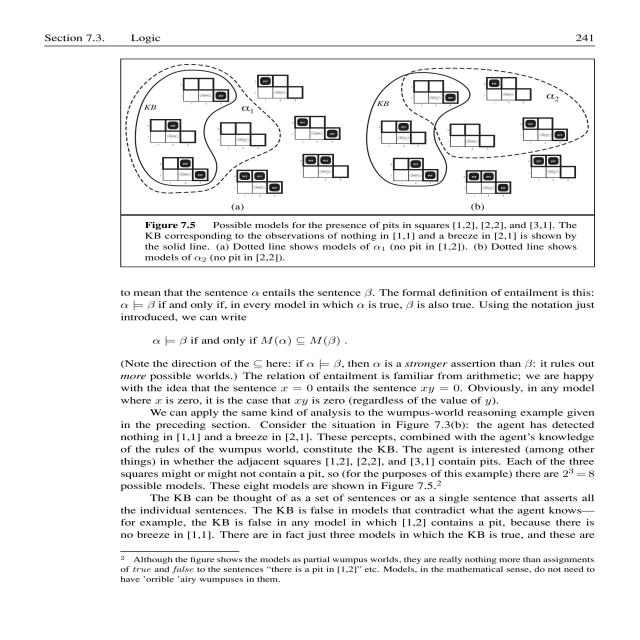diagram: (110, 58, 610, 271)
